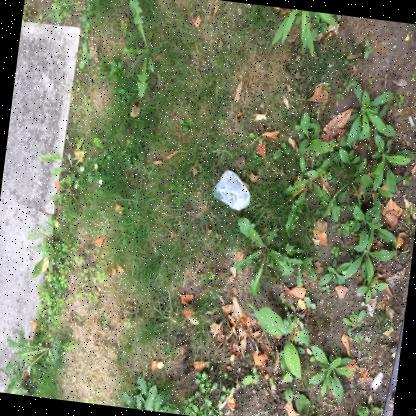Plastic film: (212, 169, 250, 211)
